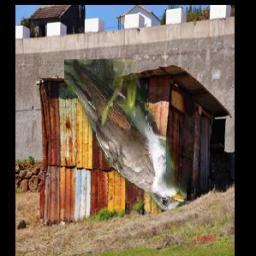Cuckoo: (65, 60, 188, 212)
